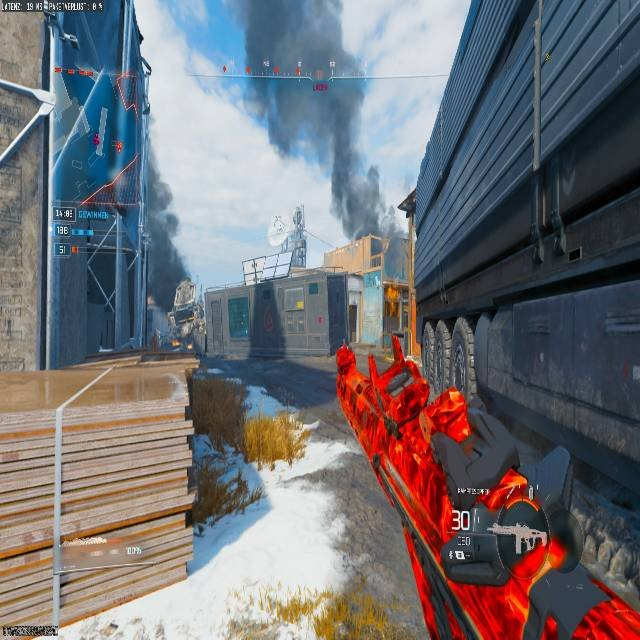player: (174, 310, 207, 363)
